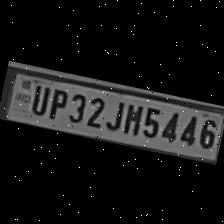2: (82, 91, 108, 128)
3: (63, 88, 88, 124)
4: (157, 105, 183, 142), (175, 109, 200, 145)
5: (136, 102, 163, 138)
6: (194, 113, 220, 149)
J: (102, 94, 126, 132)
M: (118, 98, 144, 136)
P: (42, 82, 70, 120)
U: (26, 79, 49, 115)
